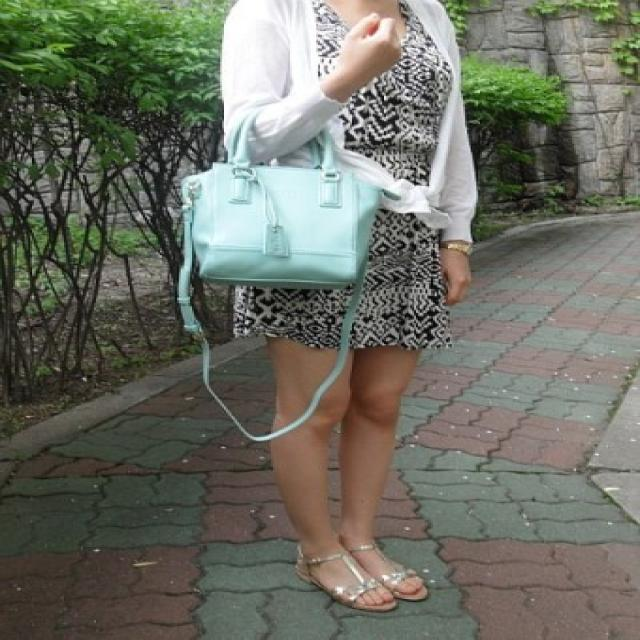no-boots: (267, 544, 399, 640)
